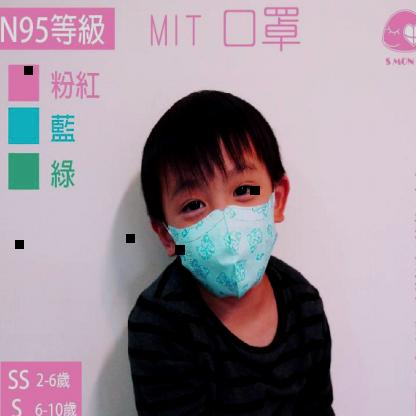mask: (135, 84, 295, 308)
